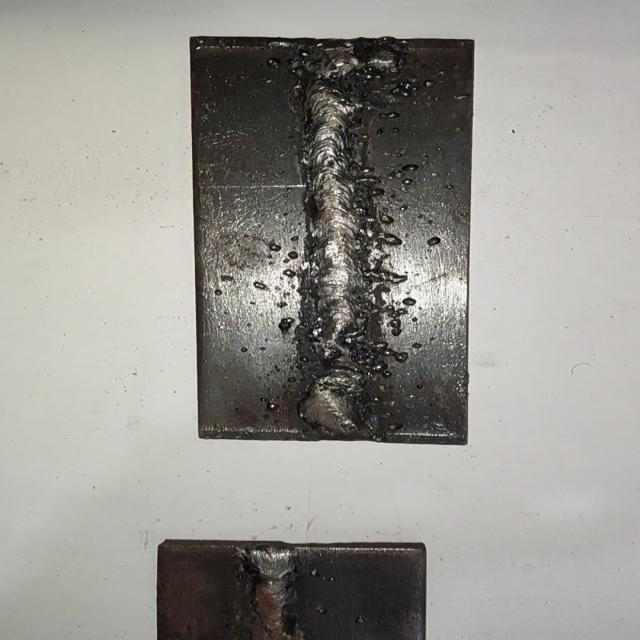Defect: (285, 41, 412, 105), (281, 326, 388, 394)
Welding Line: (293, 45, 370, 433), (248, 546, 298, 639)
Workpiece: (186, 34, 478, 449), (151, 537, 429, 640)
